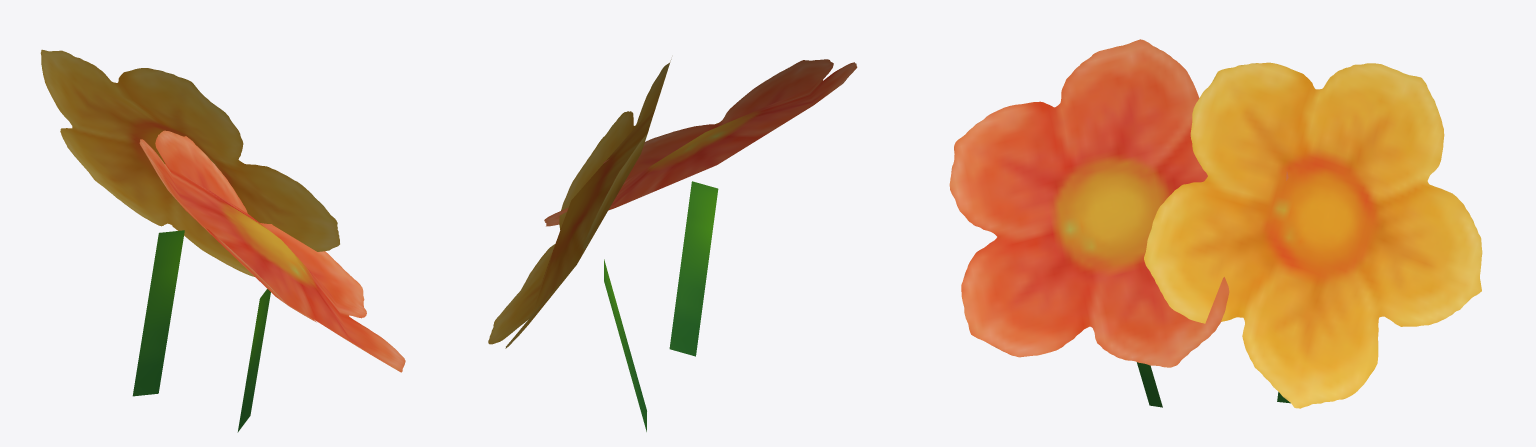
The model's file is flower_07.FBX.
3 views of the same model, side by side, from view 1: azimuth 30°, elevation 25°; view 2: azimuth 150°, elevation 25°; view 3: azimuth 270°, elevation 25° (orthographic).
Visible parts, largest first — view 1: Plane024; view 2: Plane024; view 3: Plane024.
Part boxes in pixels (x1,y1,x2,y2): Plane024: [40, 49, 405, 432]; Plane024: [488, 59, 857, 431]; Plane024: [949, 39, 1482, 408].
Bounding box in the file's own units: 0.4087 × 0.4844 × 0.7384.
